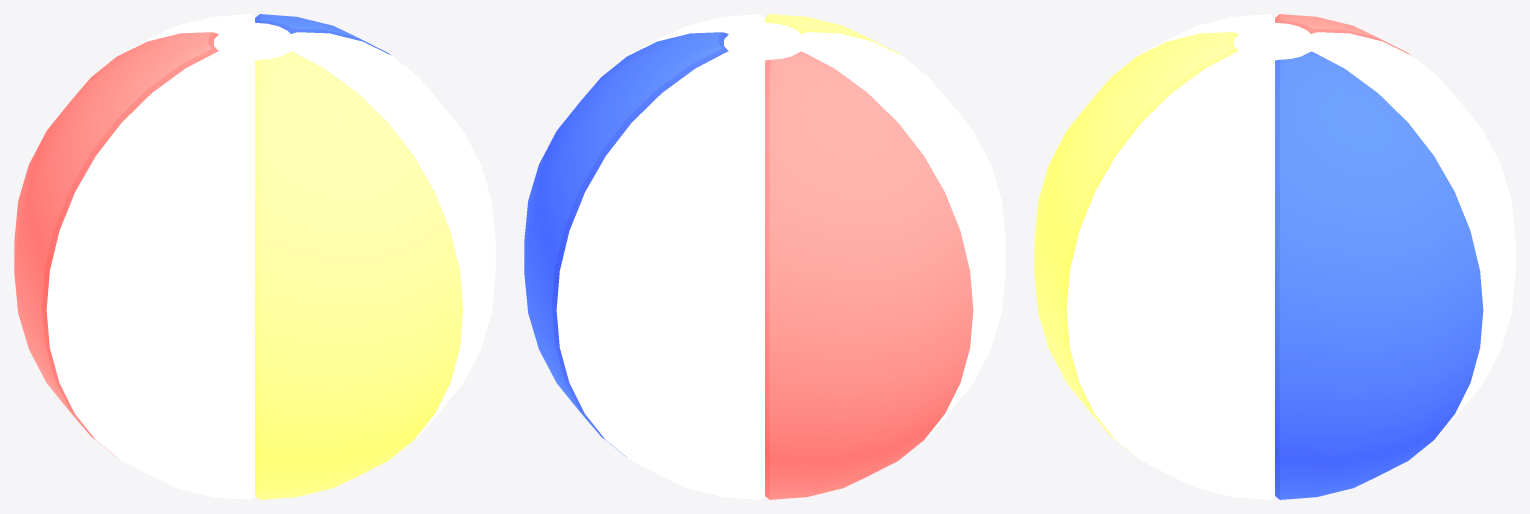
File: BeachBall.fbx
The picture shows the model from 3 angles, left to right: view 1: azimuth 30°, elevation 25°; view 2: azimuth 150°, elevation 25°; view 3: azimuth 270°, elevation 25°; orthographic projection.
Visible parts, largest first — view 1: BeachBall; view 2: BeachBall; view 3: BeachBall.
Part boxes in pixels (bbox=[...]): BeachBall: bbox=[14, 14, 495, 499]; BeachBall: bbox=[524, 14, 1005, 499]; BeachBall: bbox=[1034, 14, 1515, 499].
Bounding box in the file's own units: 1.99 × 2 × 1.97.
